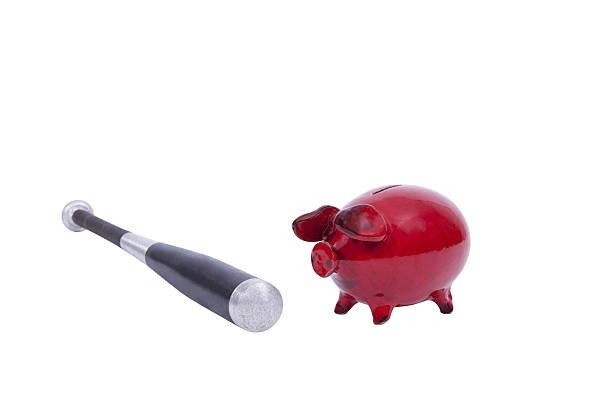bita: (62, 196, 283, 337)
